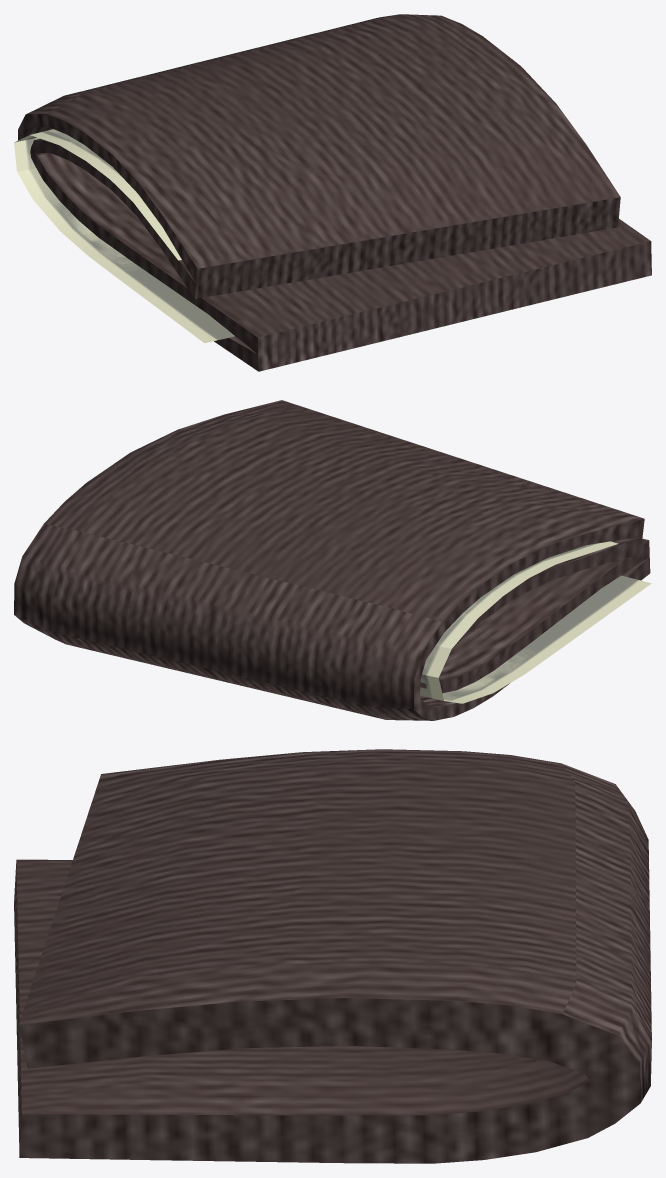
The model's file is Wallet.fbx.
3 views of the same model, one above another, from view 1: azimuth 30°, elevation 25°; view 2: azimuth 150°, elevation 25°; view 3: azimuth 270°, elevation 25° (orthographic). The views are drawn at different scales.
Parts seen in each view (by area): view 1: Plane; view 2: Plane; view 3: Plane.
Part boxes in pixels (<box>): Plane: <box>14,14,651,371</box>; Plane: <box>14,400,651,720</box>; Plane: <box>14,749,651,1163</box>.
Size of the model in its own units: 214 by 68.33 by 214.
